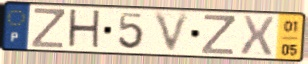5: (115, 12, 146, 51)
H: (66, 7, 102, 52)
V: (151, 10, 194, 56)
X: (239, 14, 277, 58)
Z: (200, 13, 237, 56), (30, 6, 66, 50)
